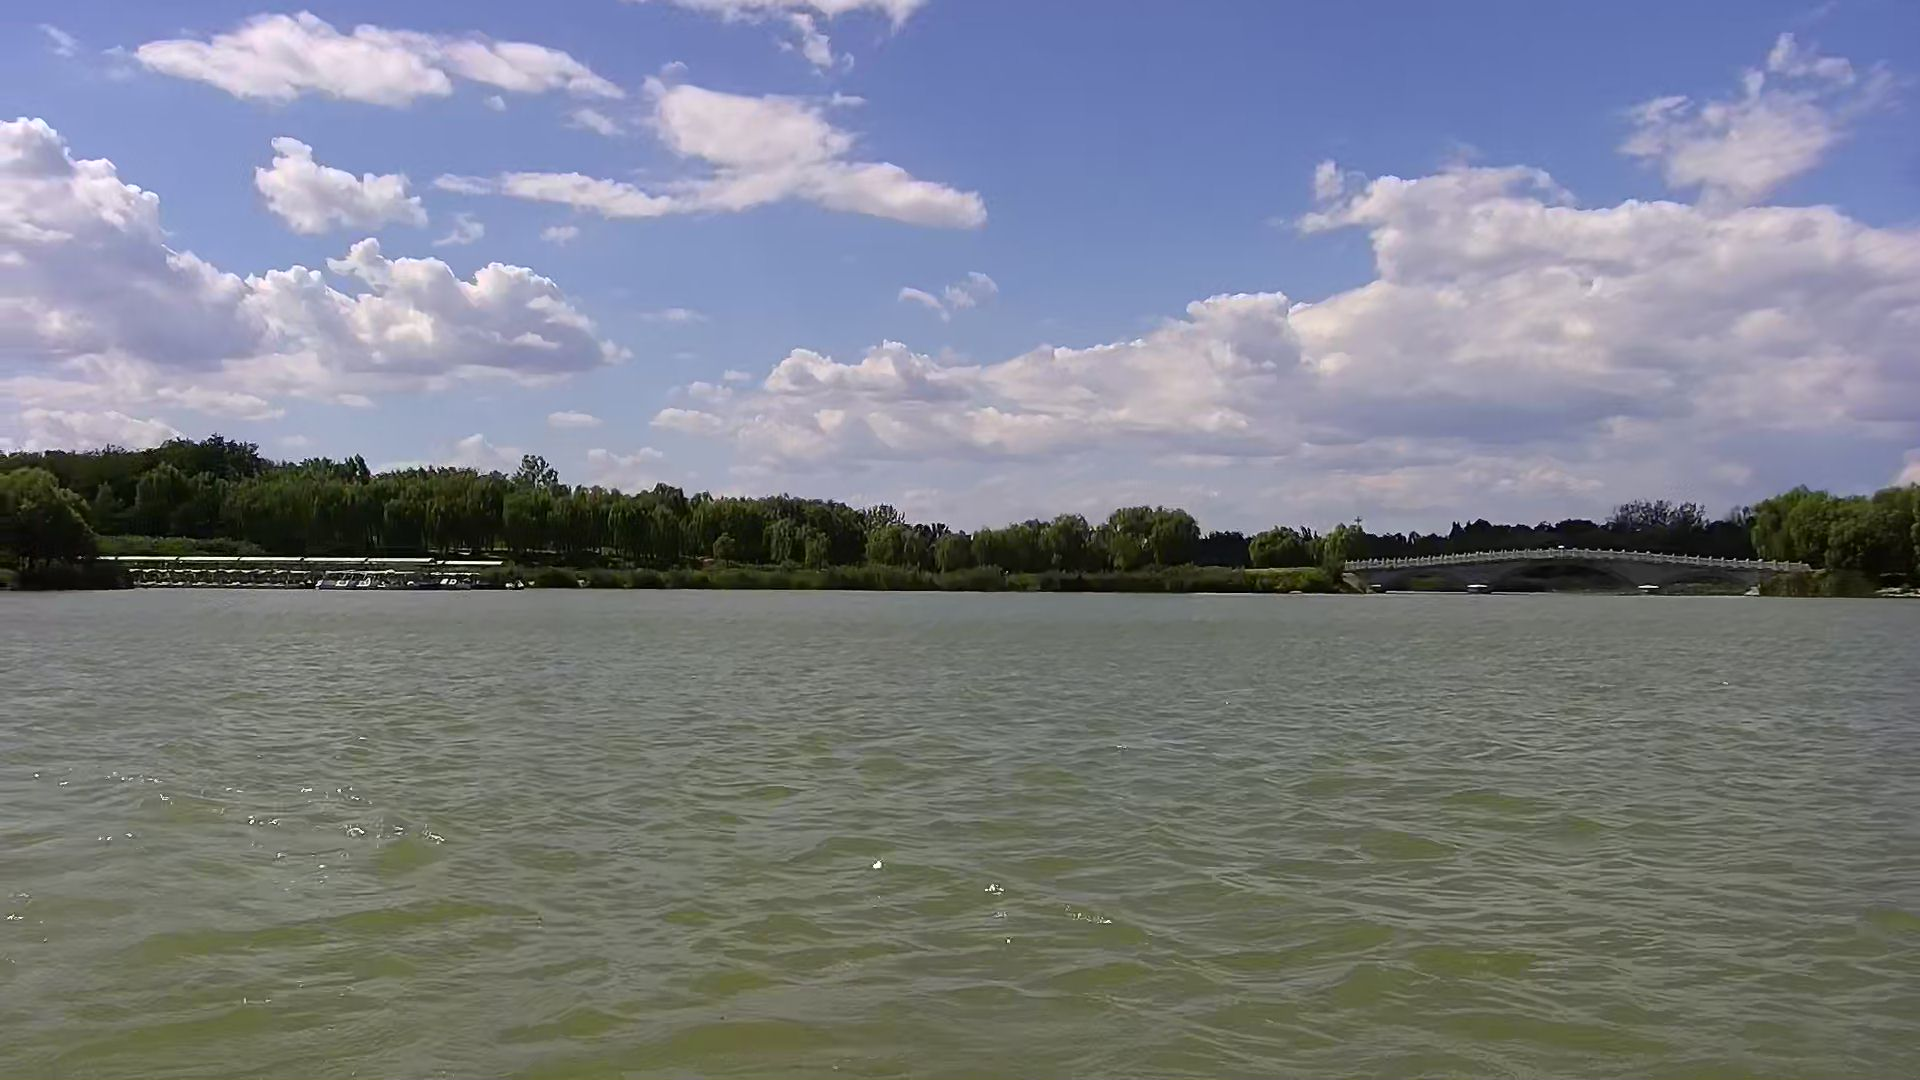bridge: (1331, 537, 1812, 604)
harbor: (108, 554, 510, 592)
